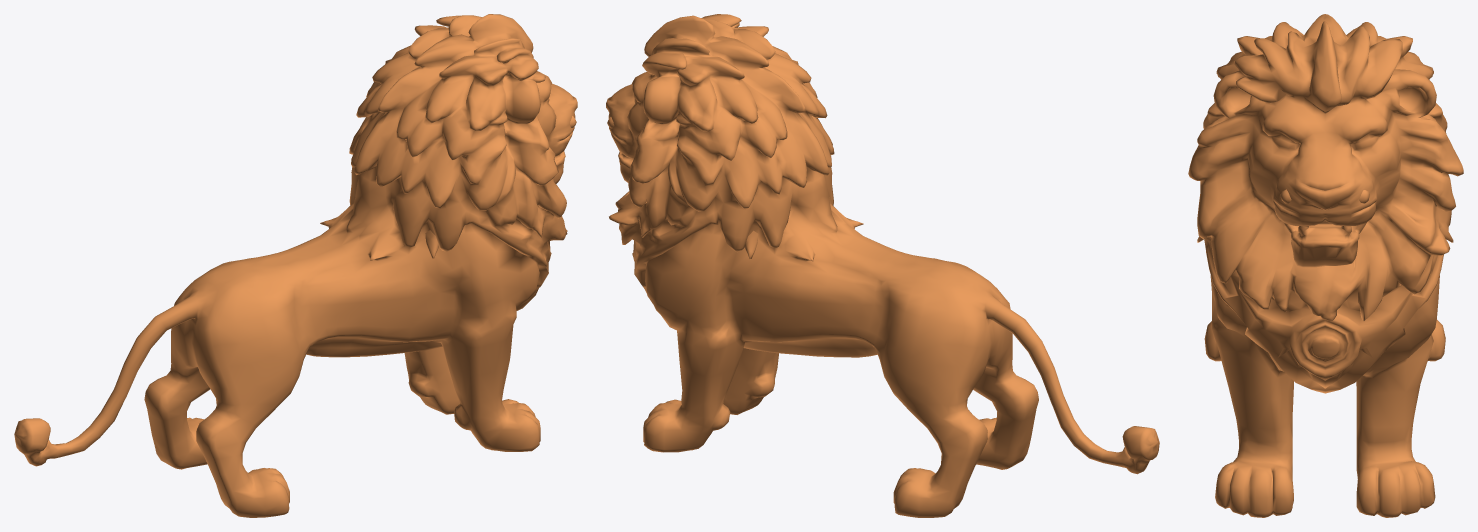
Rendered from lion-flat.glb.
The picture shows the model from 3 angles, left to right: view 1: azimuth 30°, elevation 25°; view 2: azimuth 150°, elevation 25°; view 3: azimuth 270°, elevation 25°; orthographic projection. The views are drawn at different scales.
Visible parts, largest first — view 1: tripo_node_30666041-0acf-4cfe-af35-a013e7b0d330; view 2: tripo_node_30666041-0acf-4cfe-af35-a013e7b0d330; view 3: tripo_node_30666041-0acf-4cfe-af35-a013e7b0d330.
Part boxes in pixels (<box>): tripo_node_30666041-0acf-4cfe-af35-a013e7b0d330: <box>14,14,577,517</box>; tripo_node_30666041-0acf-4cfe-af35-a013e7b0d330: <box>606,14,1159,517</box>; tripo_node_30666041-0acf-4cfe-af35-a013e7b0d330: <box>1188,14,1463,517</box>.
Bounding box in the file's own units: 0.3549 × 0.25 × 0.1285.
